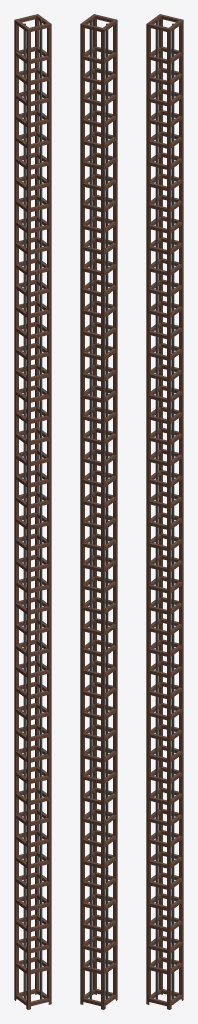
The model's file is Lift Frame.fbx.
3 renders of one model, left to right at view 1: azimuth 30°, elevation 25°; view 2: azimuth 150°, elevation 25°; view 3: azimuth 330°, elevation 25°, orthographic.
Parts seen in each view (by area): view 1: Lift Frame; view 2: Lift Frame; view 3: Lift Frame.
Part boxes in pixels (x1,y1,x2,y2): Lift Frame: [14, 14, 51, 1009]; Lift Frame: [80, 14, 117, 1009]; Lift Frame: [146, 14, 183, 1009].
Size of the model in its own units: 307 by 12153 by 308.
